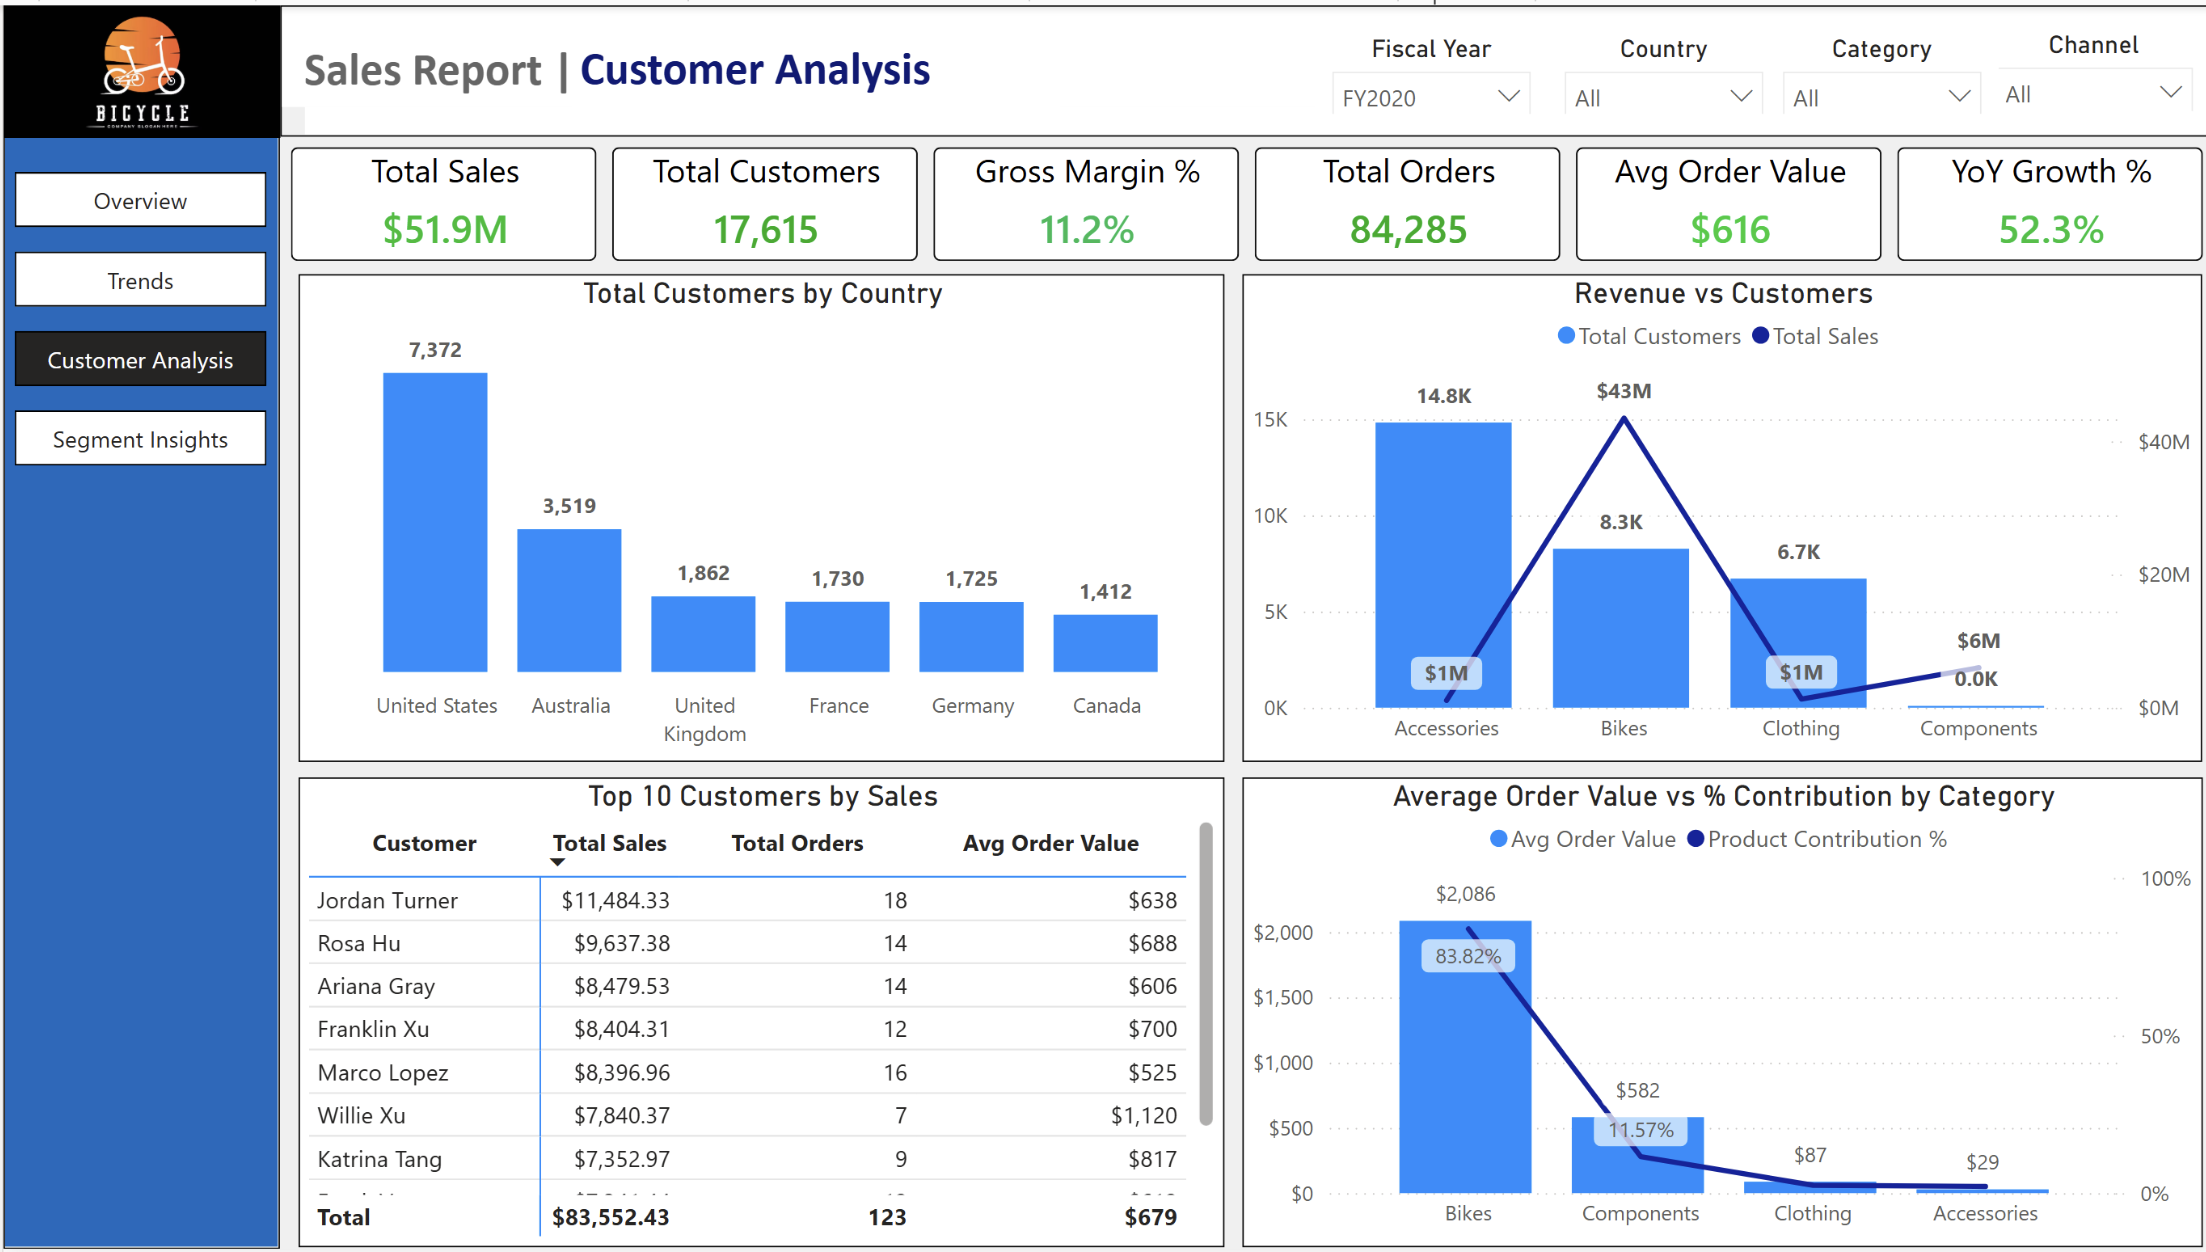

This screenshot's page, from the dashboard's own definition file:
{"tool":"powerbi","page":{"name":"Customer Analysis","canvas":[1280,720],"ordinal":2},"visuals":[{"type":"shape","box":[0,0,160,720],"z":0},{"type":"shape","title":"Sales Report | ","box":[159.8,0,1120.2,76.2],"z":1000},{"type":"textbox","box":[328.9,15.8,282.9,46.1],"z":2000},{"type":"slicer","title":"Fiscal Year","fields":{"Values":["DimDate.Fiscal Year","DimDate.Month"]},"box":[759.3,16.2,134.9,46.2],"z":4000},{"type":"lineClusteredColumnComboChart","title":"Revenue vs Customers","fields":{"Category":["DimProduct.Category"],"Y2":["Measures_.Total Sales"],"Y":["Measures_.Total Customers"]},"box":[716.9,155.3,555.6,282.3],"z":5000},{"type":"slicer","title":"Country","fields":{"Values":["DimSalesTerritory.Country"]},"box":[894.1,16.2,134.9,46.2],"z":6000},{"type":"slicer","title":"Channel","fields":{"Values":["DimSalesOrder.Channel"]},"box":[1142.9,14.3,134.3,47.1],"z":7000},{"type":"slicer","title":"Category","fields":{"Values":["DimProduct.Category"]},"box":[1020.3,16.2,134.9,46.2],"z":8000},{"type":"pivotTable","title":"Top 10 Customers by Sales","fields":{"Values":["Measures_.Total Sales","Measures_.Total Orders","Measures_.Avg Order Value"],"Rows":["DimCustomer.Customer"]},"box":[170.3,446.6,536.2,271.8],"z":9000},{"type":"clusteredColumnChart","fields":{"Y":["Measures_.Total Customers"],"Category":["DimSalesTerritory.Country"]},"box":[170.3,155.3,536.2,282.3],"z":10000},{"type":"lineClusteredColumnComboChart","title":"Average Order Value vs % Contribution by Category","fields":{"Category":["DimProduct.Category"],"Y":["Measures_.Avg Order Value"],"Y2":["Measures_.Product Contribution %"]},"box":[717,447,556,272],"z":11000},{"type":"pageNavigator","title":"Select View","box":[2.5,91.2,154.8,184.8],"z":12000},{"type":"cardVisual","fields":{"Data":["Measures_.Total Sales","Measures_.Total Customers","Measures_.Gross Margin %","Measures_.Total Orders","Measures_.Avg Order Value","Measures_.YoY Growth %"]},"box":[159.8,76.2,1120.2,78.7],"z":13000},{"type":"image","box":[0,0,160.5,76.7],"z":13001}]}

Visuals, with their boxes in screenshot pixels (x1, y1, x2, y2), scaled from the page's 1280x720 canvas onto the 2206x1252 screenshot:
shape: [0, 0, 276, 1251]
"Sales Report | " shape: [275, 0, 2205, 133]
textbox: [567, 27, 1054, 108]
"Fiscal Year" slicer: [1309, 28, 1541, 109]
"Revenue vs Customers" lineClusteredColumnComboChart: [1236, 270, 2193, 761]
"Country" slicer: [1541, 28, 1773, 109]
"Channel" slicer: [1970, 25, 2201, 107]
"Category" slicer: [1758, 28, 1991, 109]
"Top 10 Customers by Sales" pivotTable: [294, 777, 1218, 1249]
clusteredColumnChart - Measures_.Total Customers x DimSalesTerritory.Country: [294, 270, 1218, 761]
"Average Order Value vs % Contribution by Category" lineClusteredColumnComboChart: [1236, 777, 2194, 1250]
"Select View" pageNavigator: [4, 159, 271, 480]
cardVisual - Measures_.Total Sales x Measures_.Total Customers: [275, 133, 2205, 269]
image: [0, 0, 277, 133]
